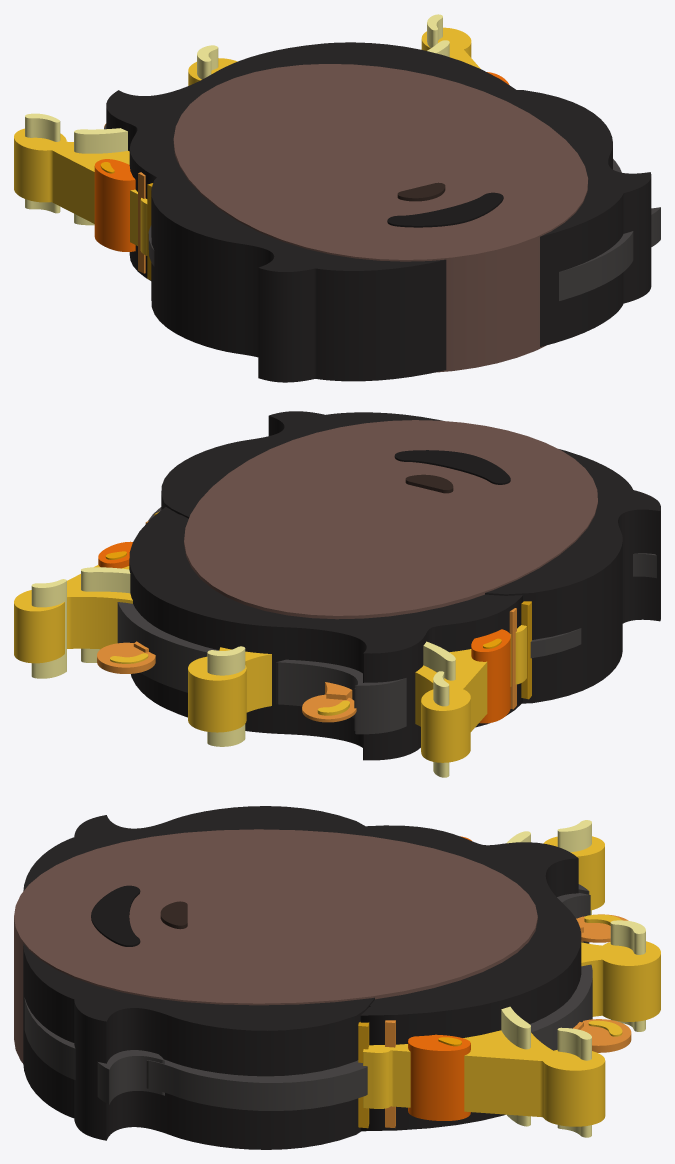
The model's file is emoji_u1fac5_1f3ff.glb.
The picture shows the model from 3 angles, top to bottom: view 1: azimuth 30°, elevation 25°; view 2: azimuth 150°, elevation 25°; view 3: azimuth 270°, elevation 25°; orthographic projection. The views are drawn at different scales.
Visible parts, largest first — view 1: emoji_u1fac5_1f3ff; view 2: emoji_u1fac5_1f3ff; view 3: emoji_u1fac5_1f3ff.
Part boxes in pixels (<box>): emoji_u1fac5_1f3ff: <box>14,14,660,382</box>; emoji_u1fac5_1f3ff: <box>14,411,660,777</box>; emoji_u1fac5_1f3ff: <box>14,806,660,1149</box>.
Bounding box in the file's own units: 0.0289 × 0.0074 × 0.0335.
